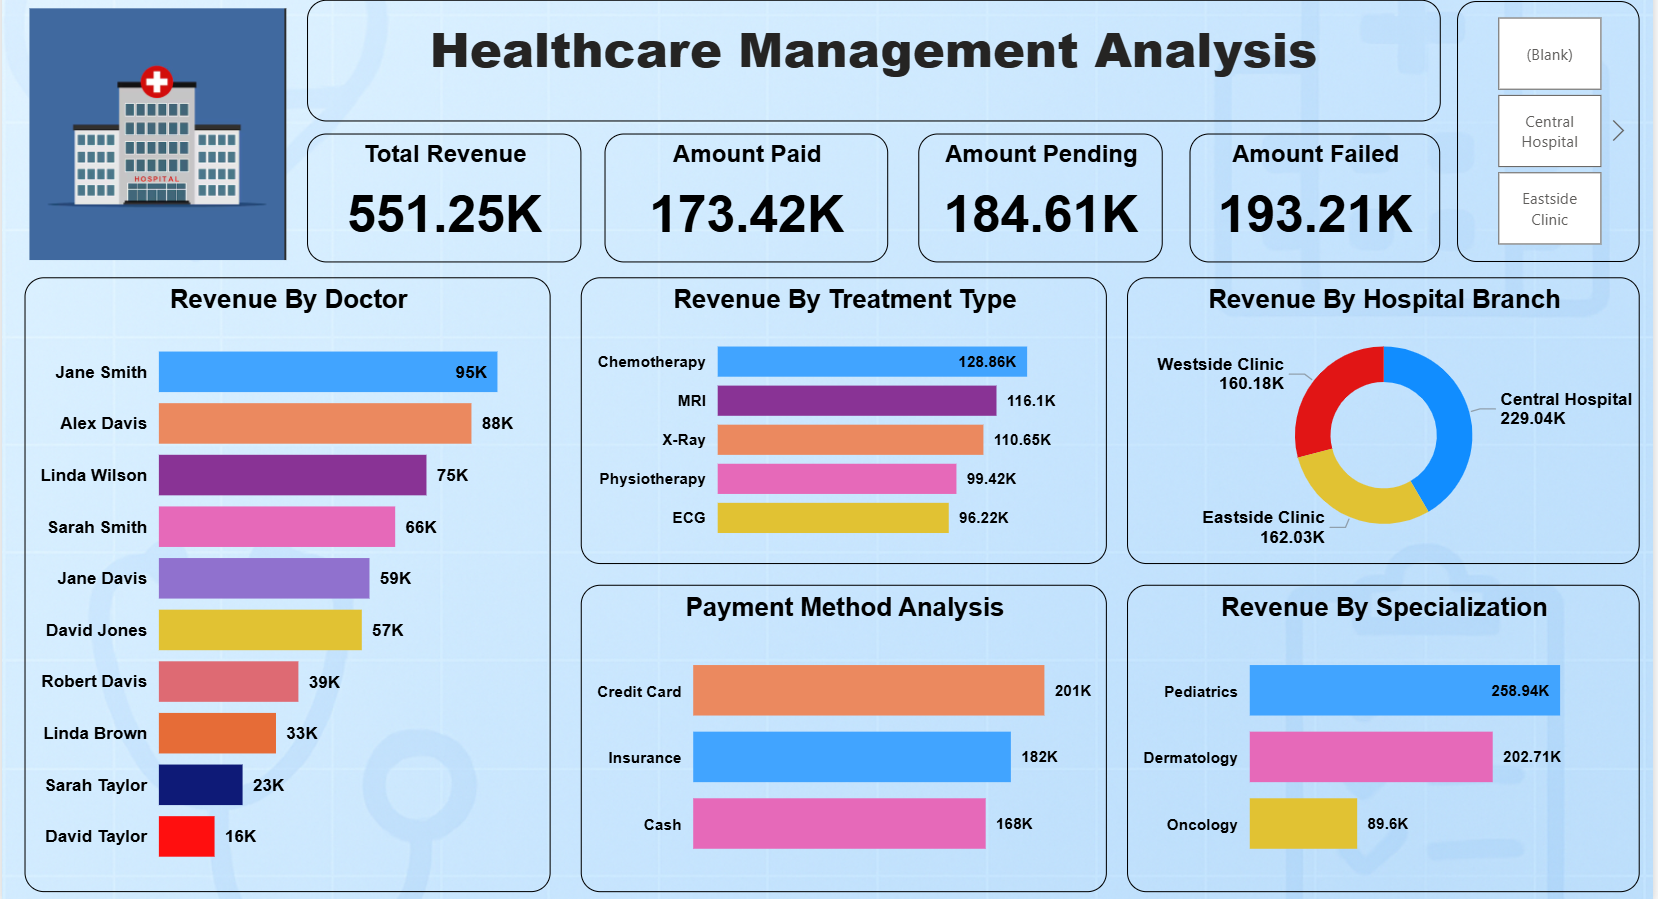

What the dashboard file says about the page in this screenshot:
{"tool":"powerbi","page":{"name":" Dashboard_3","canvas":[1280,720],"ordinal":2},"visuals":[{"type":"textbox","box":[236,18.6,879.1,94.2],"z":0},{"type":"image","box":[16.3,10.5,209.3,223.3],"z":1000},{"type":"slicer","fields":{"Values":["doctors.hospital_branch"]},"box":[1127.9,19.8,141.9,202.3],"z":2000},{"type":"card","title":"Total Revenue","fields":{"Values":["Sum(Billing.amount)"]},"box":[236,122.1,212.8,100],"z":3000},{"type":"card","title":"Amount Paid","fields":{"Values":["Sum(Billing.amount)"]},"box":[472.1,122.1,220,99.8],"z":4000},{"type":"card","title":"Amount Pending","fields":{"Values":["Sum(Billing.amount)"]},"box":[710.5,122.1,189.5,100],"z":5000},{"type":"card","title":"Amount Failed","fields":{"Values":["Sum(Billing.amount)"]},"box":[920.9,122.1,194.2,100],"z":6000},{"type":"clusteredBarChart","title":"Revenue By Doctor","fields":{"Y":["Sum(Billing.amount)"],"Category":["doctors.Full Name"]},"box":[17.4,233.7,408.1,476.7],"z":7000},{"type":"clusteredBarChart","title":"Revenue By Treatment Type","fields":{"Y":["Sum(Treatments.cost)"],"Category":["Treatments.treatment_type"]},"box":[448.8,233.7,408.1,222.1],"z":8000},{"type":"clusteredBarChart","title":"Payment Method Analysis","fields":{"Y":["Sum(Billing.amount)"],"Category":["Billing.payment_method"]},"box":[448.8,472.1,408.1,238.4],"z":9000},{"type":"donutChart","title":"Revenue By Hospital Branch","fields":{"Category":["doctors.hospital_branch"],"Y":["Sum(Treatments.cost)"]},"box":[872.1,233.7,397.7,222.1],"z":10000},{"type":"clusteredBarChart","title":"Revenue By Specialization","fields":{"Category":["doctors.specialization"],"Y":["Sum(Treatments.cost)"]},"box":[872.1,472.1,397.7,238.4],"z":11000}]}

Visuals, with their boxes on the page's 1280x720 design canvas (x1, y1, x2, y2). These are canvas units, not pixel positions in the 1658x899 screenshot, which may show the page scaled, cropped or inside an application window:
textbox: <box>236,19,1115,113</box>
image: <box>16,10,226,234</box>
slicer - doctors.hospital_branch: <box>1128,20,1270,222</box>
"Total Revenue" card: <box>236,122,449,222</box>
"Amount Paid" card: <box>472,122,692,222</box>
"Amount Pending" card: <box>710,122,900,222</box>
"Amount Failed" card: <box>921,122,1115,222</box>
"Revenue By Doctor" clusteredBarChart: <box>17,234,426,710</box>
"Revenue By Treatment Type" clusteredBarChart: <box>449,234,857,456</box>
"Payment Method Analysis" clusteredBarChart: <box>449,472,857,710</box>
"Revenue By Hospital Branch" donutChart: <box>872,234,1270,456</box>
"Revenue By Specialization" clusteredBarChart: <box>872,472,1270,710</box>
